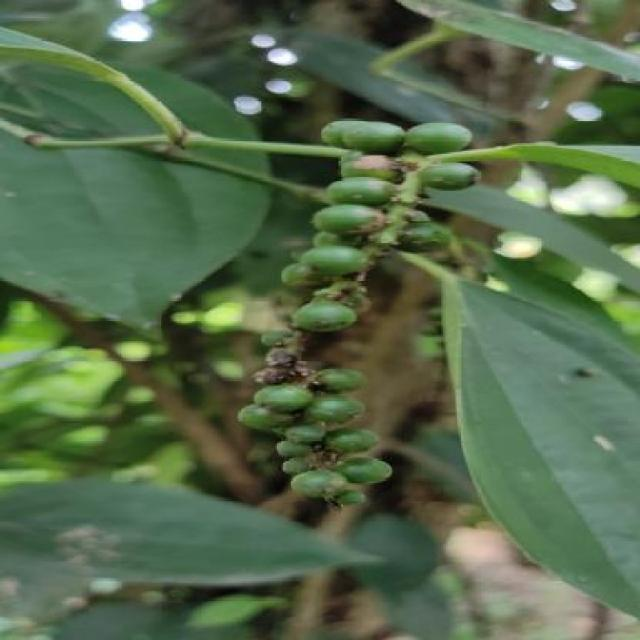UNRIPE: (237, 118, 478, 505)
